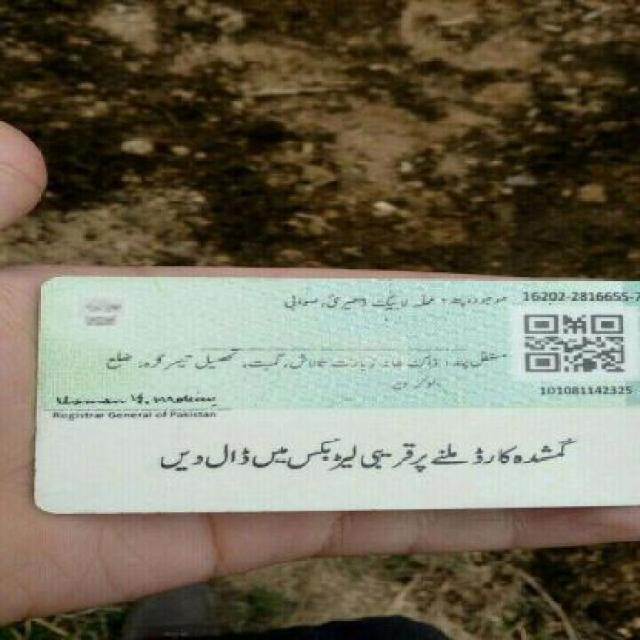Back: (29, 269, 640, 517)
